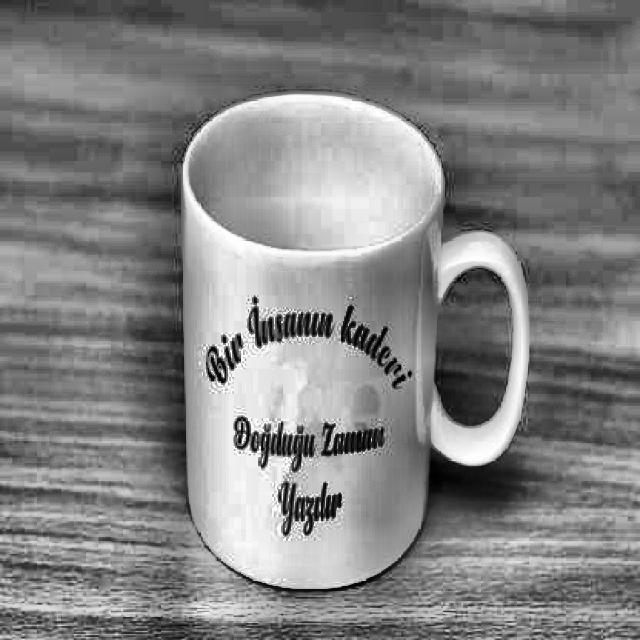Mug: (180, 90, 529, 592)
